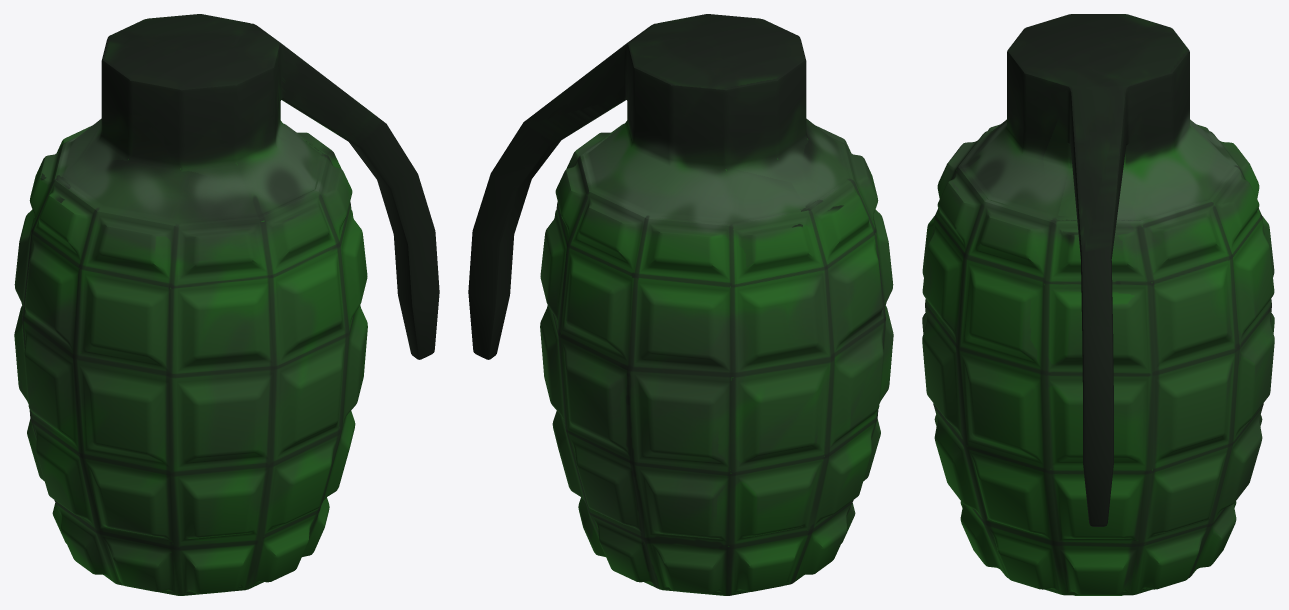
The model's file is Granade.fbx.
3 views of the same model, side by side, from view 1: azimuth 30°, elevation 25°; view 2: azimuth 150°, elevation 25°; view 3: azimuth 270°, elevation 25° (orthographic).
Parts seen in each view (by area): view 1: Cylinder; view 2: Cylinder; view 3: Cylinder.
Part boxes in pixels (box(x1,y1,x2,y2)): Cylinder: box(14, 14, 439, 595); Cylinder: box(468, 14, 893, 595); Cylinder: box(922, 14, 1274, 595).
Size of the model in its own units: 301 by 375 by 232.
